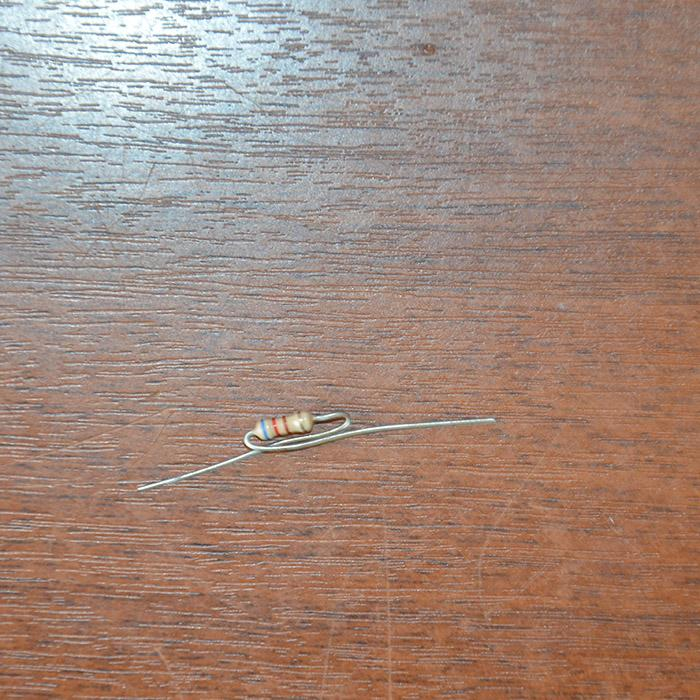resistor: (252, 409, 316, 441)
